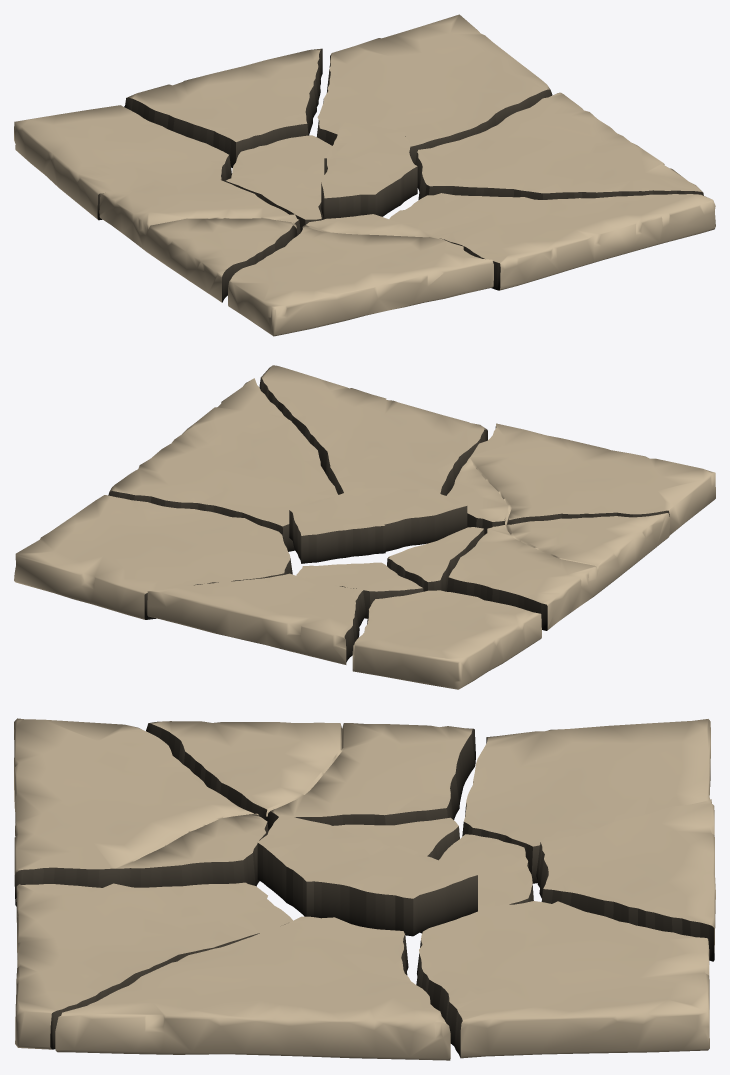
File: slab1-2.glb
3 renders of one model, top to bottom at view 1: azimuth 30°, elevation 25°; view 2: azimuth 150°, elevation 25°; view 3: azimuth 270°, elevation 25°, orthographic. The views are drawn at different scales.
Parts seen in each view (by area): view 1: damage1-2, chip0; view 2: damage1-2, chip0; view 3: damage1-2, chip0.
Boxes of the visible parts, <box> form: damage1-2: <box>14,14,715,336</box>; chip0: <box>321,121,417,219</box>; damage1-2: <box>14,365,715,689</box>; chip0: <box>289,487,467,563</box>; damage1-2: <box>14,718,715,1060</box>; chip0: <box>257,814,477,936</box>.
Size of the model in its own units: 1.02 by 0.1346 by 1.02.
